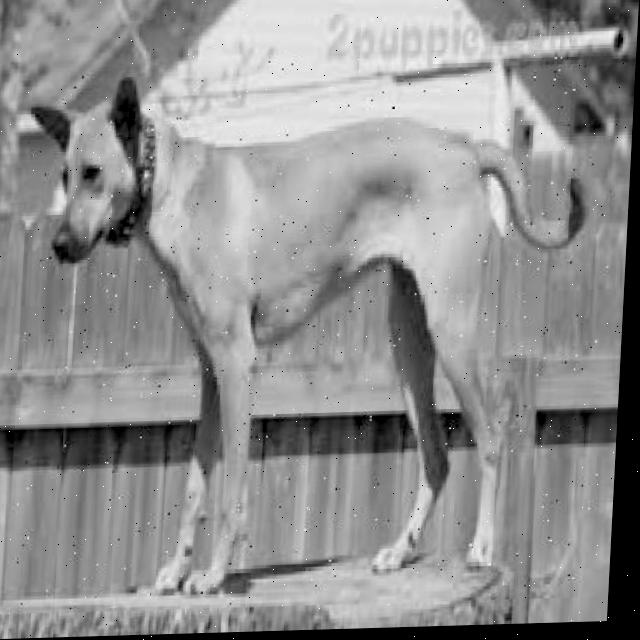Dog: (8, 46, 623, 616)
